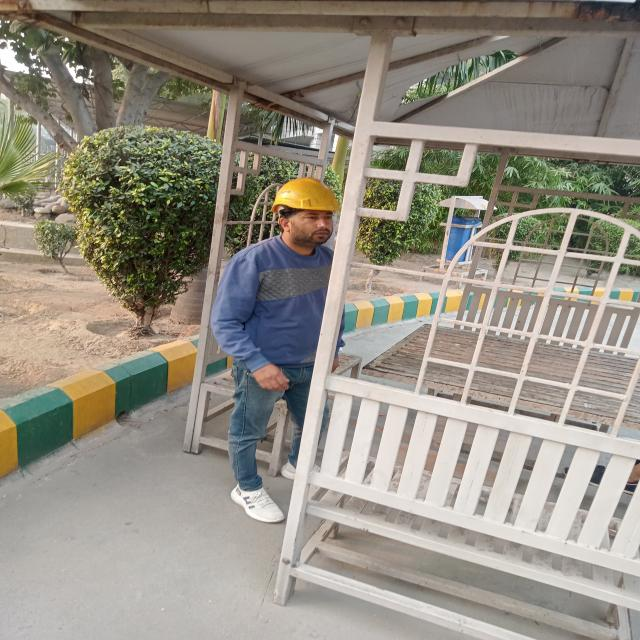no jacket: (208, 172, 335, 522)
